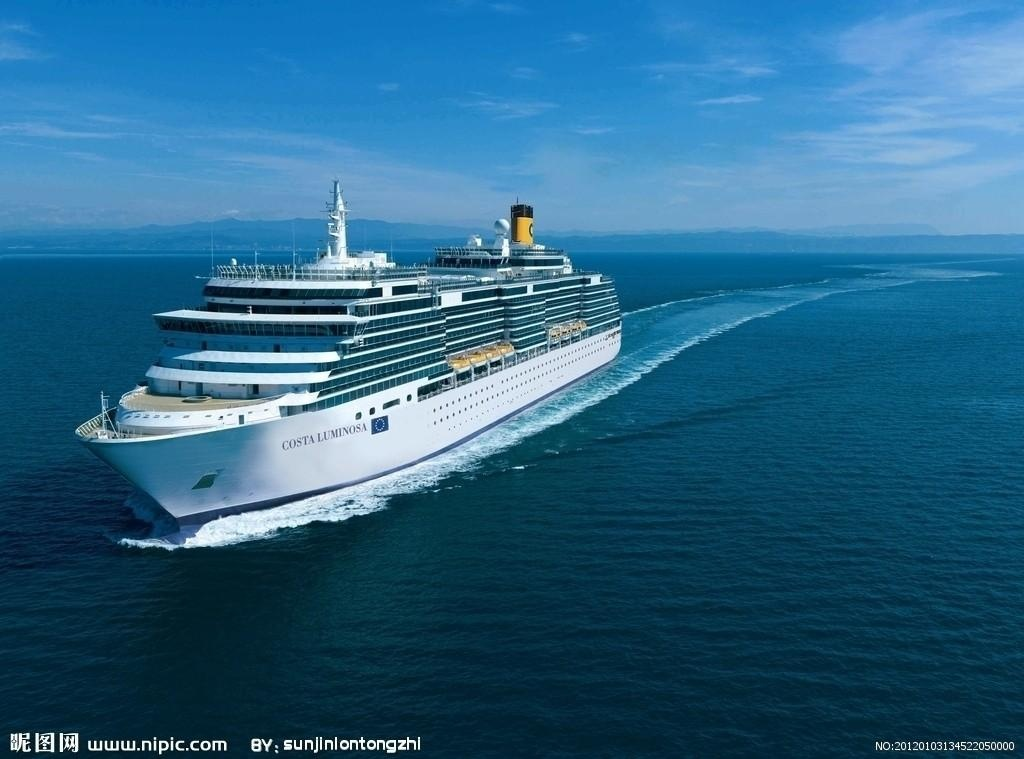youlun: (72, 171, 626, 538)
